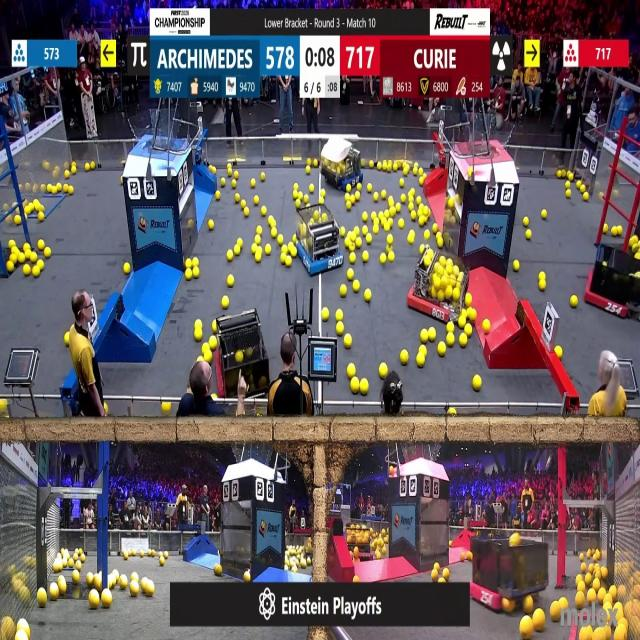ball_ground: (532, 612, 544, 632), (90, 592, 101, 609), (34, 588, 44, 606), (551, 602, 561, 620), (101, 592, 112, 608), (143, 581, 154, 597), (524, 597, 534, 613), (359, 379, 368, 395), (472, 376, 481, 392), (575, 594, 584, 609), (59, 580, 68, 595), (131, 584, 140, 598), (380, 362, 388, 377), (95, 574, 103, 589), (501, 599, 510, 612), (400, 350, 408, 364), (351, 379, 359, 393), (348, 363, 356, 377), (439, 343, 447, 357), (578, 629, 588, 640), (447, 335, 455, 348), (209, 338, 217, 351), (588, 591, 596, 604), (321, 309, 329, 321), (538, 280, 546, 292), (570, 294, 578, 306), (418, 354, 426, 366), (226, 275, 234, 287), (163, 401, 171, 413), (459, 316, 467, 328), (420, 332, 428, 344), (345, 336, 352, 349), (484, 319, 491, 332), (194, 328, 201, 341), (556, 346, 563, 359), (352, 281, 360, 292), (214, 564, 222, 575), (560, 598, 568, 609), (30, 252, 38, 263), (337, 310, 344, 322), (221, 296, 228, 308), (338, 322, 345, 334), (468, 309, 475, 321), (226, 249, 233, 261), (460, 336, 467, 348), (464, 293, 471, 305), (73, 570, 80, 582), (364, 290, 371, 302), (88, 572, 95, 584), (120, 580, 127, 592), (380, 253, 388, 263), (244, 571, 252, 581), (438, 239, 446, 249), (204, 352, 212, 362), (576, 583, 584, 593), (108, 575, 114, 588), (514, 262, 521, 273), (341, 285, 348, 296), (24, 266, 31, 277), (444, 568, 451, 579), (428, 331, 435, 342), (17, 252, 24, 263), (123, 264, 129, 276), (191, 269, 198, 279), (419, 345, 426, 355), (419, 216, 426, 226), (33, 268, 40, 278), (525, 231, 532, 241), (345, 240, 352, 250), (37, 212, 44, 222), (632, 236, 639, 246), (362, 251, 368, 262), (44, 247, 50, 258), (387, 235, 393, 246), (7, 263, 13, 274), (465, 324, 471, 335), (362, 224, 368, 235), (0, 398, 6, 409), (203, 343, 209, 354), (212, 320, 217, 333), (410, 232, 415, 245), (194, 320, 201, 329), (538, 272, 545, 281), (259, 207, 266, 216), (253, 197, 260, 206), (540, 210, 547, 219), (381, 189, 388, 198), (576, 182, 583, 191), (37, 262, 44, 271), (593, 581, 600, 590), (348, 270, 354, 280), (185, 270, 191, 280), (254, 252, 260, 262), (236, 246, 242, 256), (65, 335, 70, 347), (362, 212, 368, 222), (388, 252, 394, 262), (350, 253, 356, 263), (398, 218, 404, 228), (448, 322, 454, 332), (252, 244, 258, 254), (269, 216, 275, 226), (448, 200, 454, 210), (281, 254, 287, 264), (290, 248, 296, 258), (618, 225, 624, 235), (365, 235, 371, 245), (38, 240, 44, 250), (419, 242, 425, 252), (431, 570, 437, 580), (354, 225, 360, 235), (610, 226, 616, 236), (278, 236, 284, 246), (448, 410, 456, 417), (238, 239, 245, 247), (341, 228, 346, 239), (524, 217, 530, 226), (424, 232, 430, 241), (191, 257, 197, 266), (584, 191, 590, 200), (272, 230, 278, 239), (304, 193, 310, 202), (185, 258, 191, 267), (384, 222, 390, 231), (384, 209, 390, 218), (370, 212, 376, 221), (402, 167, 408, 176), (395, 204, 401, 213), (424, 207, 430, 216), (75, 561, 81, 570), (377, 163, 383, 172), (267, 245, 272, 255), (209, 220, 214, 230), (215, 190, 220, 200), (251, 178, 256, 188), (8, 254, 15, 261), (244, 208, 250, 216), (294, 201, 300, 209), (292, 190, 298, 198), (259, 174, 265, 182), (65, 184, 71, 192), (282, 245, 288, 253), (132, 572, 138, 580), (14, 216, 20, 224), (578, 554, 584, 562), (557, 170, 563, 178), (410, 188, 416, 196), (413, 168, 419, 176), (226, 168, 232, 176), (46, 184, 52, 192), (567, 172, 573, 180), (212, 394, 218, 402), (25, 244, 31, 252), (575, 574, 581, 582), (356, 239, 361, 248), (236, 192, 241, 201), (355, 191, 360, 200), (400, 193, 405, 202), (256, 225, 261, 234), (347, 202, 352, 211), (308, 187, 313, 196), (353, 575, 359, 582), (435, 234, 441, 241), (8, 241, 14, 248), (346, 185, 352, 192), (460, 553, 466, 560), (293, 183, 299, 190), (603, 224, 608, 232), (432, 224, 437, 232), (366, 183, 371, 191), (220, 178, 225, 186), (412, 212, 417, 220), (161, 558, 166, 566), (372, 194, 377, 202), (241, 200, 246, 208), (84, 163, 89, 171), (399, 178, 403, 188), (65, 171, 70, 179), (410, 203, 415, 211), (565, 183, 570, 191), (92, 163, 97, 171), (320, 188, 325, 196), (319, 198, 324, 206), (419, 168, 424, 176), (255, 237, 260, 245), (467, 553, 472, 561), (580, 564, 585, 572), (58, 183, 63, 191), (433, 562, 438, 570), (386, 198, 390, 207), (291, 236, 296, 243), (388, 217, 393, 224), (356, 183, 361, 190), (123, 554, 128, 561), (288, 242, 293, 249), (149, 552, 154, 559), (307, 167, 311, 175), (372, 225, 376, 233), (346, 192, 350, 200), (378, 552, 382, 560), (233, 180, 237, 188), (368, 162, 372, 170), (140, 552, 145, 558), (420, 178, 424, 185), (72, 168, 76, 175), (417, 195, 421, 202), (314, 161, 318, 168), (165, 553, 169, 560), (212, 166, 216, 173), (308, 160, 312, 167), (119, 177, 123, 184), (235, 172, 239, 178), (449, 540, 453, 546)
goal: (461, 118, 517, 158), (128, 115, 186, 151)
robot_blue: (296, 205, 343, 276), (321, 140, 364, 192), (346, 522, 378, 560)
robot_red: (467, 532, 551, 612), (212, 310, 264, 414), (409, 254, 465, 325), (584, 242, 636, 316)
